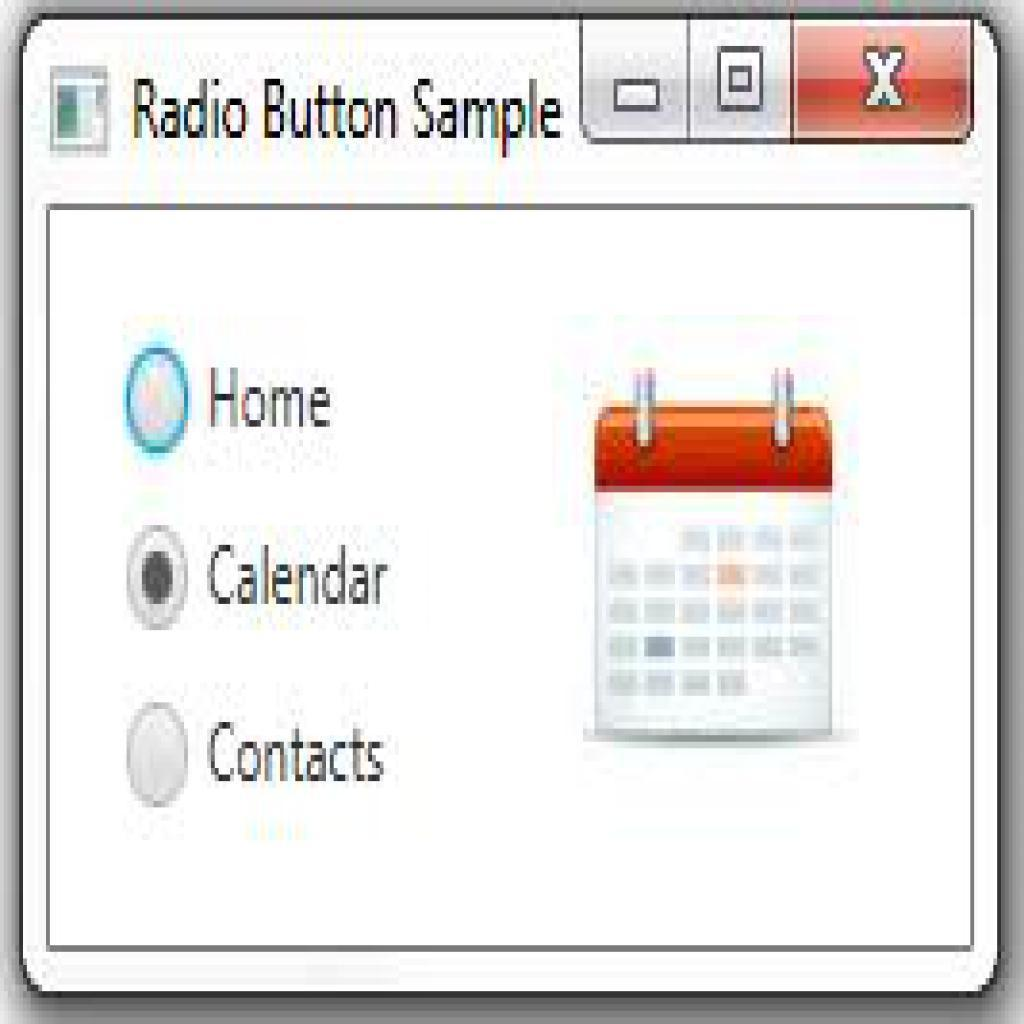radio: (123, 347, 192, 457), (123, 530, 189, 631), (127, 703, 188, 807)
